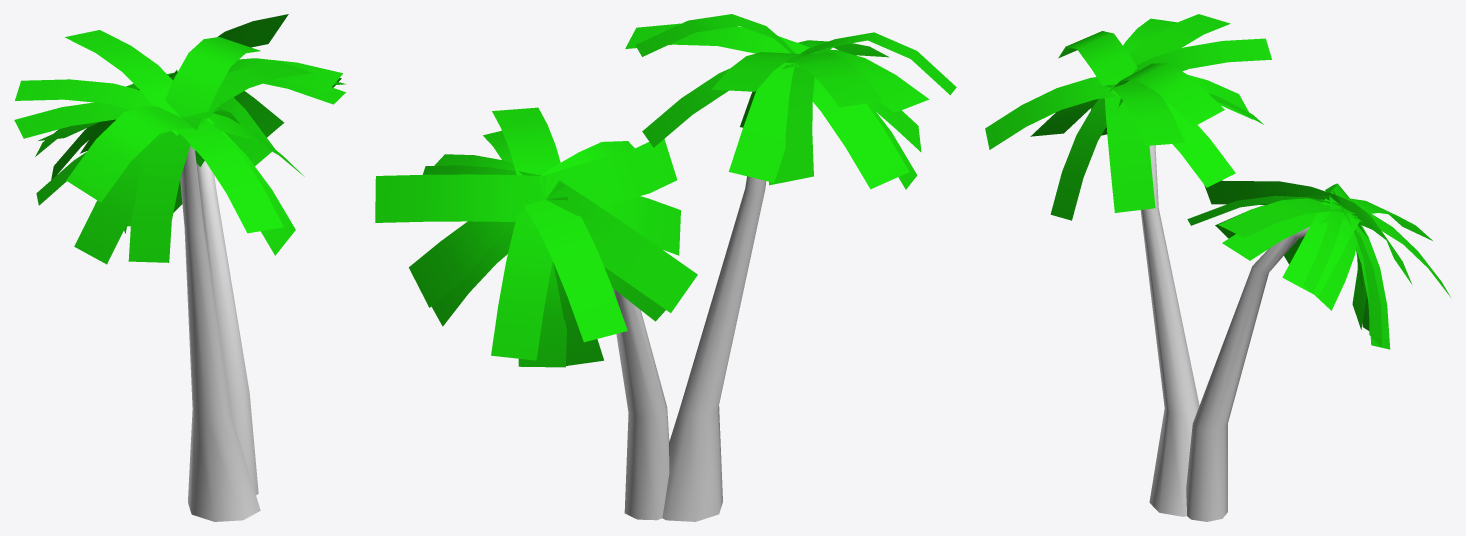
Rendered from Palmtree2.fbx.
3 renders of one model, left to right at view 1: azimuth 30°, elevation 25°; view 2: azimuth 150°, elevation 25°; view 3: azimuth 270°, elevation 25°, orthographic. The views are drawn at different scales.
Parts seen in each view (by area): view 1: Palmtree2; view 2: Palmtree2; view 3: Palmtree2.
Part boxes in pixels (bbox=[...]): Palmtree2: bbox=[14, 14, 346, 521]; Palmtree2: bbox=[375, 14, 956, 521]; Palmtree2: bbox=[985, 14, 1450, 521].
Size of the model in its own units: 240 by 267 by 269.
